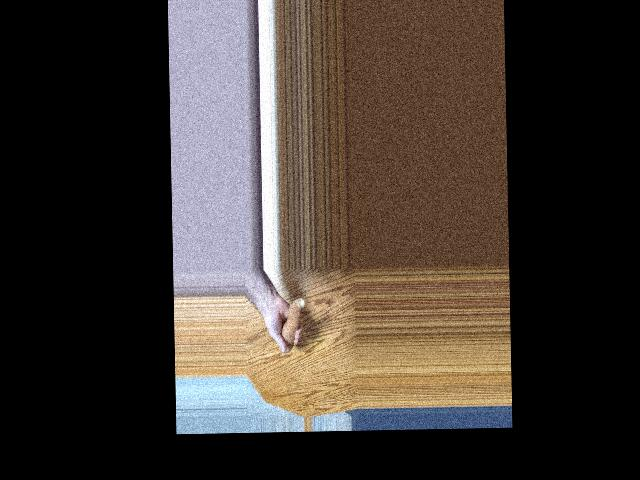sweet_potato: (280, 294, 305, 355)
